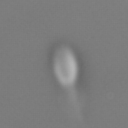normal: (58, 84, 89, 127)
